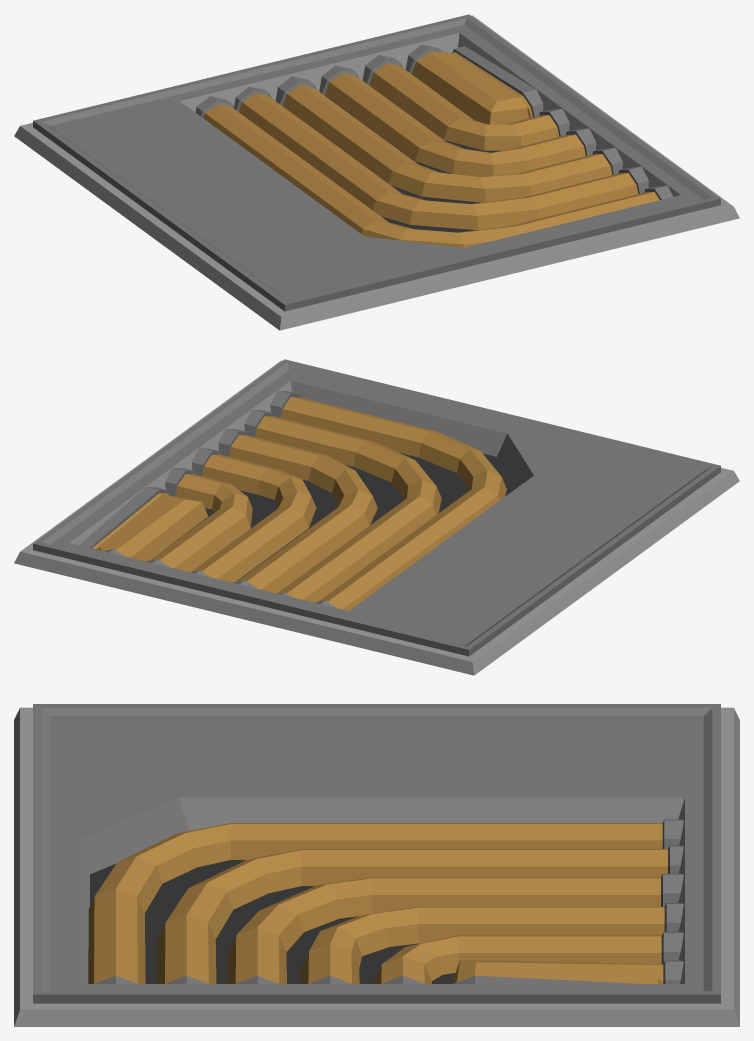
The picture shows the model from 3 angles, top to bottom: view 1: azimuth 30°, elevation 25°; view 2: azimuth 150°, elevation 25°; view 3: azimuth 270°, elevation 25°; orthographic projection. The views are drawn at different scales.
Visible parts, largest first — view 1: RoofTile_InnerCorner_Pipes; view 2: RoofTile_InnerCorner_Pipes; view 3: RoofTile_InnerCorner_Pipes.
Part boxes in pixels (bbox=[...]): RoofTile_InnerCorner_Pipes: bbox=[14, 14, 739, 330]; RoofTile_InnerCorner_Pipes: bbox=[14, 359, 739, 675]; RoofTile_InnerCorner_Pipes: bbox=[14, 704, 739, 1026].
Bounding box in the file's own units: 2 × 0.1147 × 2.
